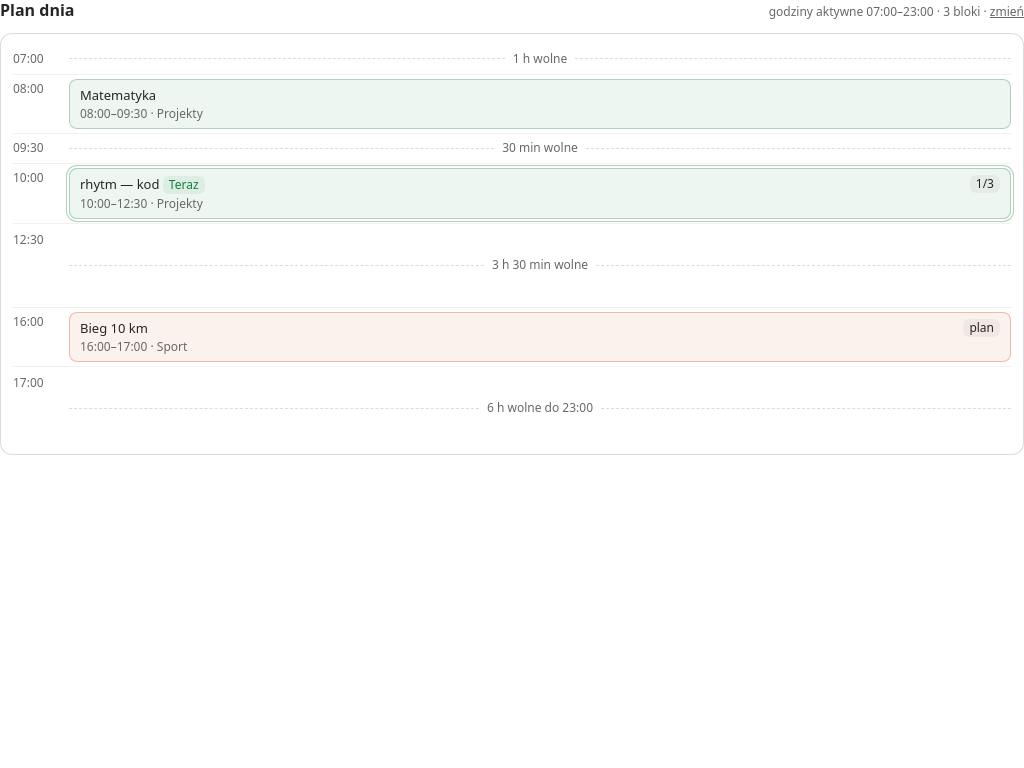
it: DayPlan › klik w przerwę otwiera „Nowy blok” od pełnej godziny w górę, 60 min; zapis odświeża plan
Note: Przerwa 12:30–16:00 → od 13:00
Click the button with aria-label "3 h 30 min wolne, dodaj blok od 13:00". click: [540, 265]
box: [69,257,1011,273]
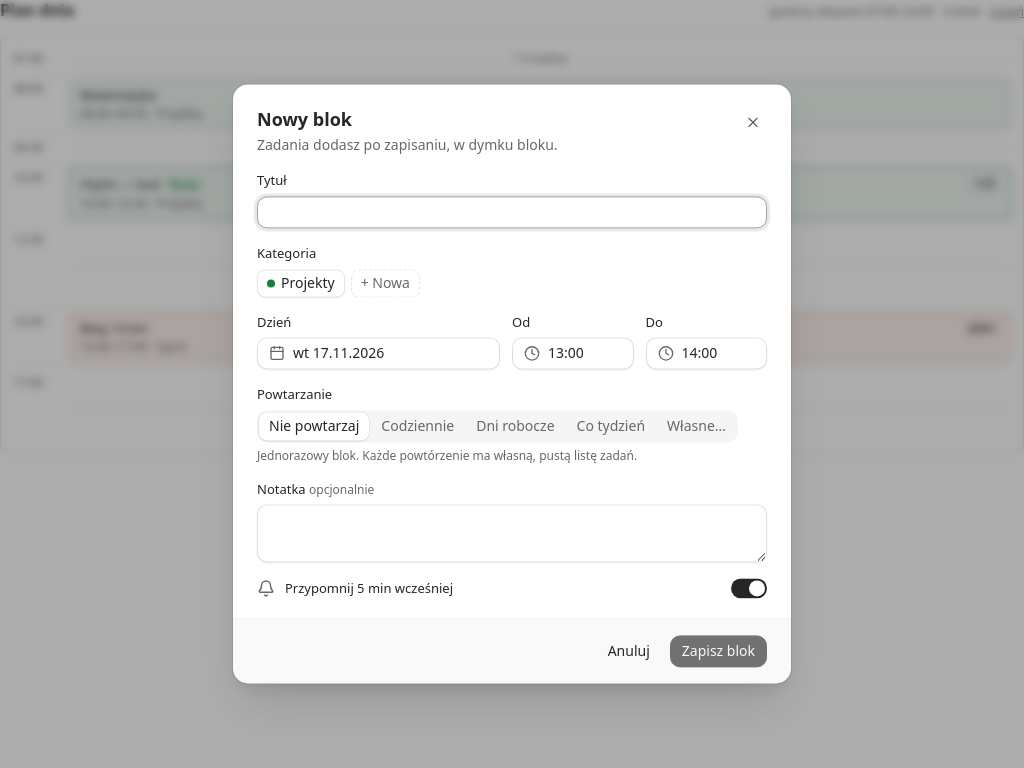
Expected: the button named "Od" reads "13:00", [512,338,634,370]
Expected: the button named "Do" reads "14:00", [646,338,767,370]
Type "Lunch" into the field labelled "Tytuł". click: [512, 212]
box: [257,196,767,228]
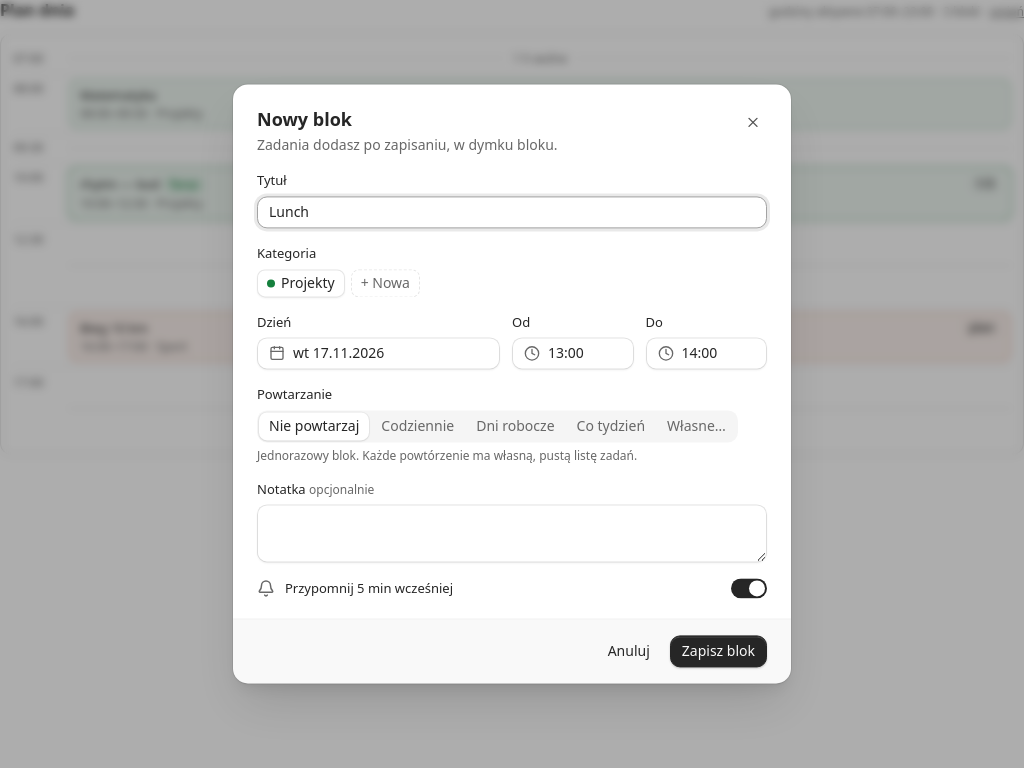
Click the button "Zapisz blok". click: [718, 652]
box: [670,636,767,668]
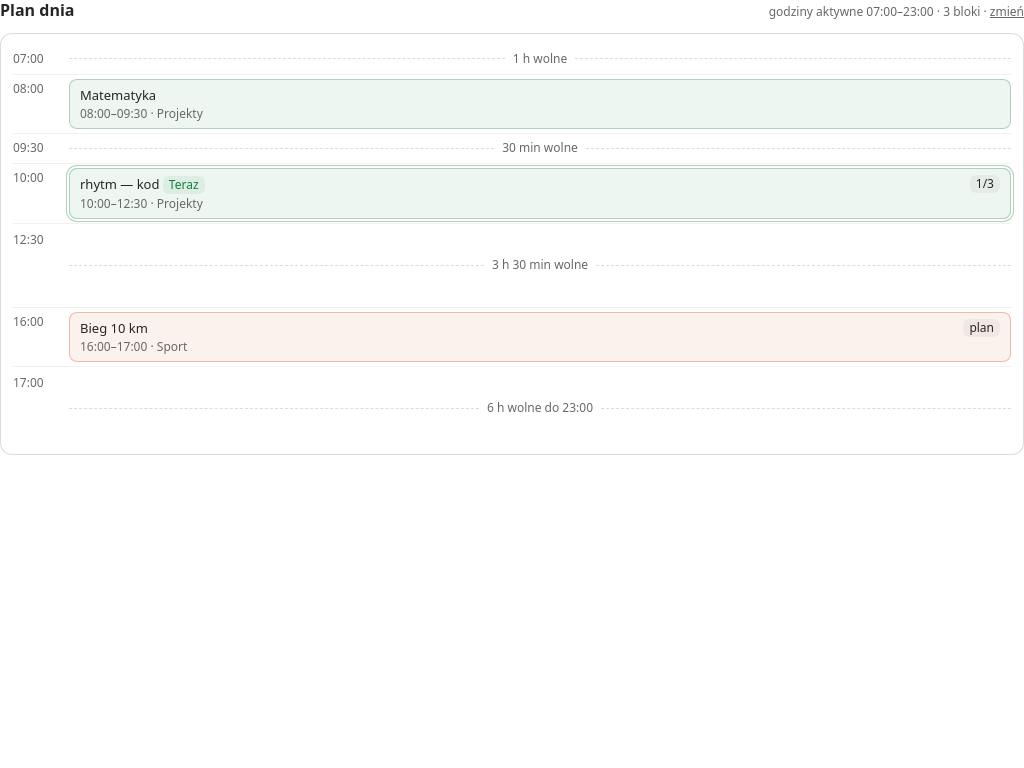
Expected: the dialog is gone
